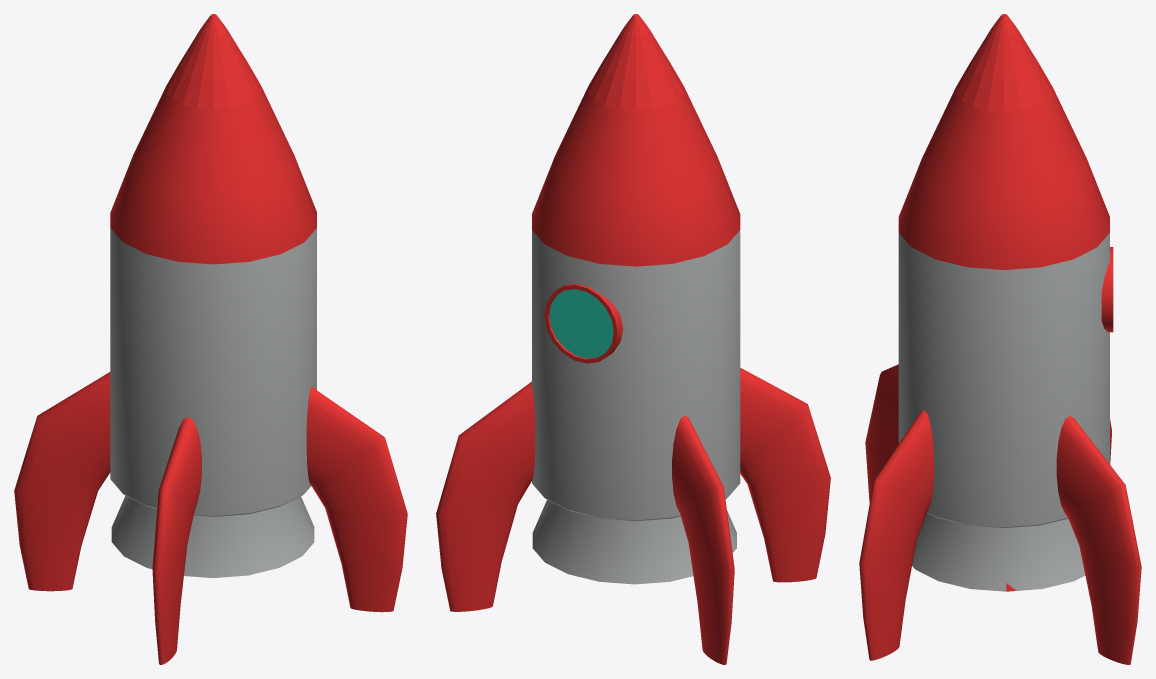
Rendered from cohete.FBX.
The picture shows the model from 3 angles, left to right: view 1: azimuth 30°, elevation 25°; view 2: azimuth 150°, elevation 25°; view 3: azimuth 270°, elevation 25°; orthographic projection. The views are drawn at different scales.
Parts seen in each view (by area): view 1: Cylinder001; view 2: Cylinder001; view 3: Cylinder001.
Boxes of the visible parts, x1=… form: Cylinder001: x1=14, y1=14, x2=407, y2=664; Cylinder001: x1=436, y1=14, x2=830, y2=664; Cylinder001: x1=859, y1=14, x2=1141, y2=664.
Size of the model in its own units: 7.84 by 15.4 by 6.7.
